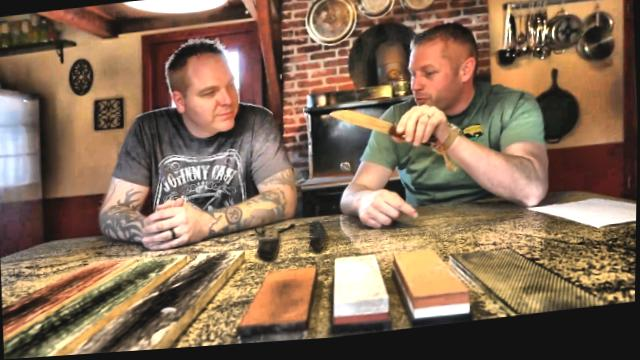knife: (319, 95, 431, 164)
